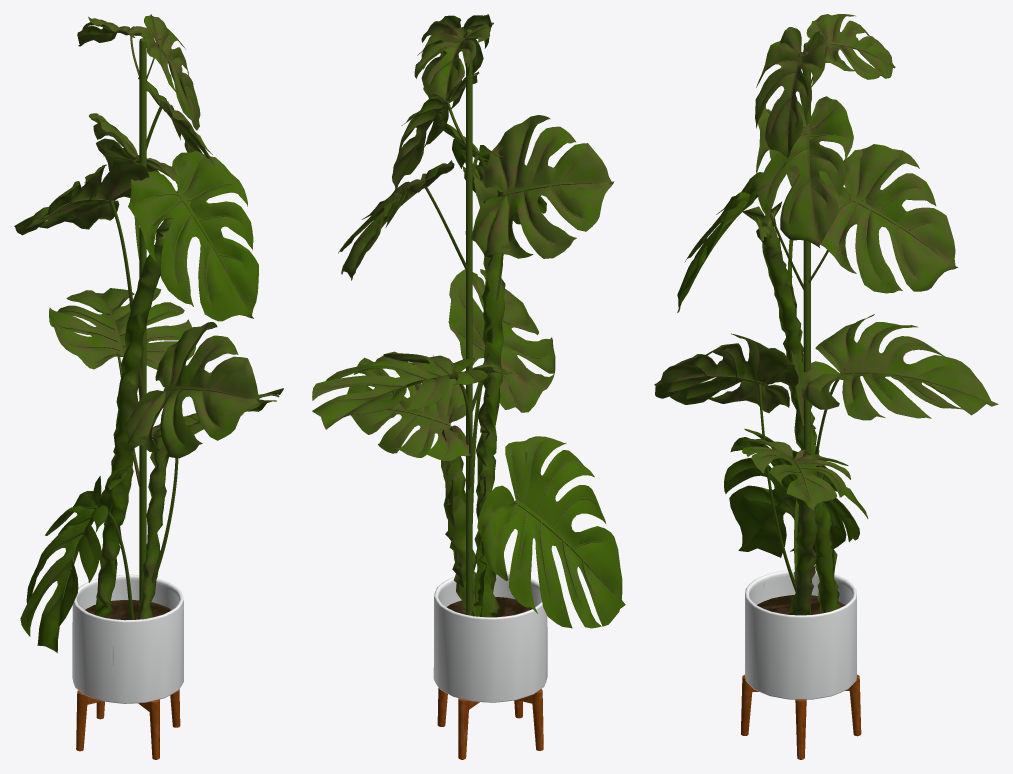
Rendered from potted_monstera_plant_tur.glb.
The picture shows the model from 3 angles, left to right: view 1: azimuth 30°, elevation 25°; view 2: azimuth 150°, elevation 25°; view 3: azimuth 270°, elevation 25°; orthographic projection.
Parts seen in each view (by area): view 1: PottedMonsteraPlantTurnedWoodPlanterWideWhite_PottedMonstera; view 2: PottedMonsteraPlantTurnedWoodPlanterWideWhite_PottedMonstera; view 3: PottedMonsteraPlantTurnedWoodPlanterWideWhite_PottedMonstera.
Boxes of the visible parts, left/top/right/bottom form: PottedMonsteraPlantTurnedWoodPlanterWideWhite_PottedMonstera: left=14, top=14, right=283, bottom=759; PottedMonsteraPlantTurnedWoodPlanterWideWhite_PottedMonstera: left=312, top=14, right=625, bottom=759; PottedMonsteraPlantTurnedWoodPlanterWideWhite_PottedMonstera: left=654, top=14, right=998, bottom=759.
Bounding box in the file's own units: 0.4472 × 1.22 × 0.5308.
1 material, 1 textured.
